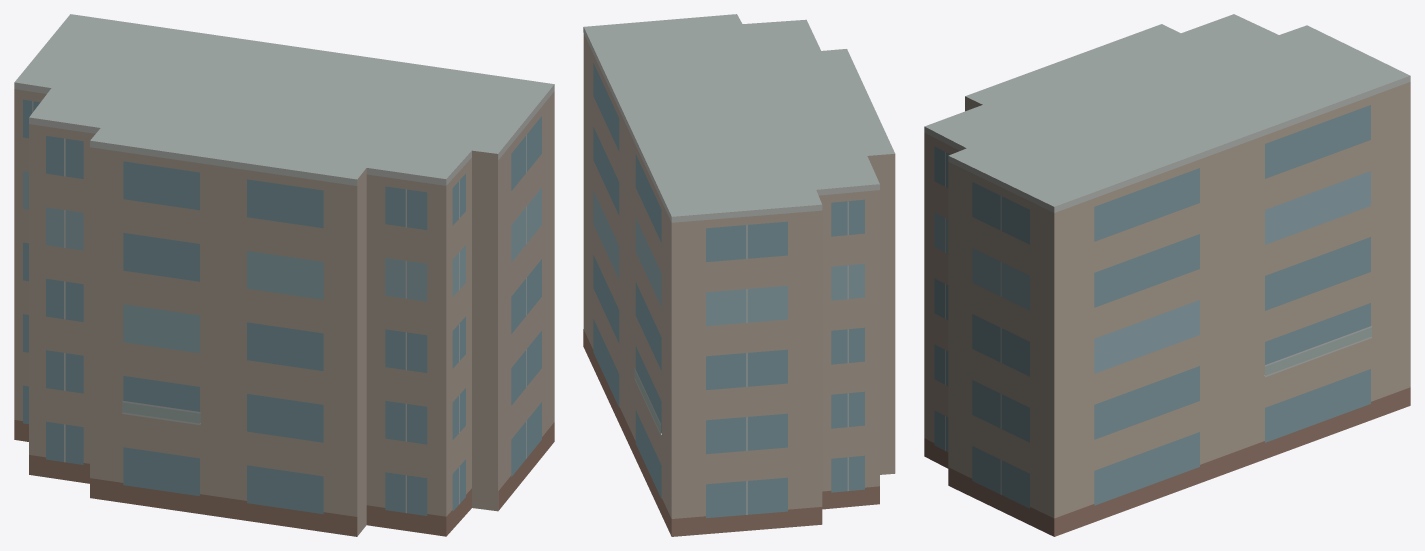
File: survey-upis-32546147.glb
The picture shows the model from 3 angles, left to right: view 1: azimuth 30°, elevation 25°; view 2: azimuth 150°, elevation 25°; view 3: azimuth 270°, elevation 25°; orthographic projection. The views are drawn at different scales.
Visible parts, largest first — view 1: survey-upis-32546147.tmp; view 2: survey-upis-32546147.tmp; view 3: survey-upis-32546147.tmp.
Boxes of the visible parts, bbox=[...] form: survey-upis-32546147.tmp: bbox=[14, 14, 554, 536]; survey-upis-32546147.tmp: bbox=[583, 14, 895, 536]; survey-upis-32546147.tmp: bbox=[924, 14, 1410, 536].
Size of the model in its own units: 16.56 by 13.2 by 17.63.
